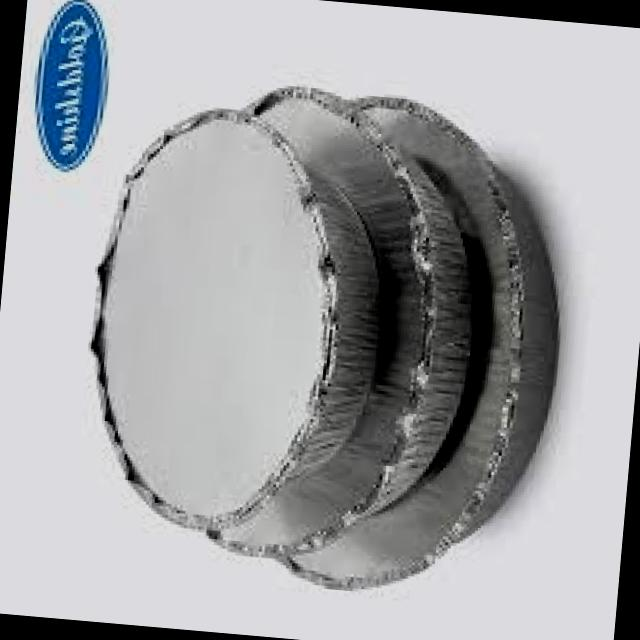metal: (287, 98, 557, 589), (209, 90, 473, 556), (91, 111, 381, 529)
